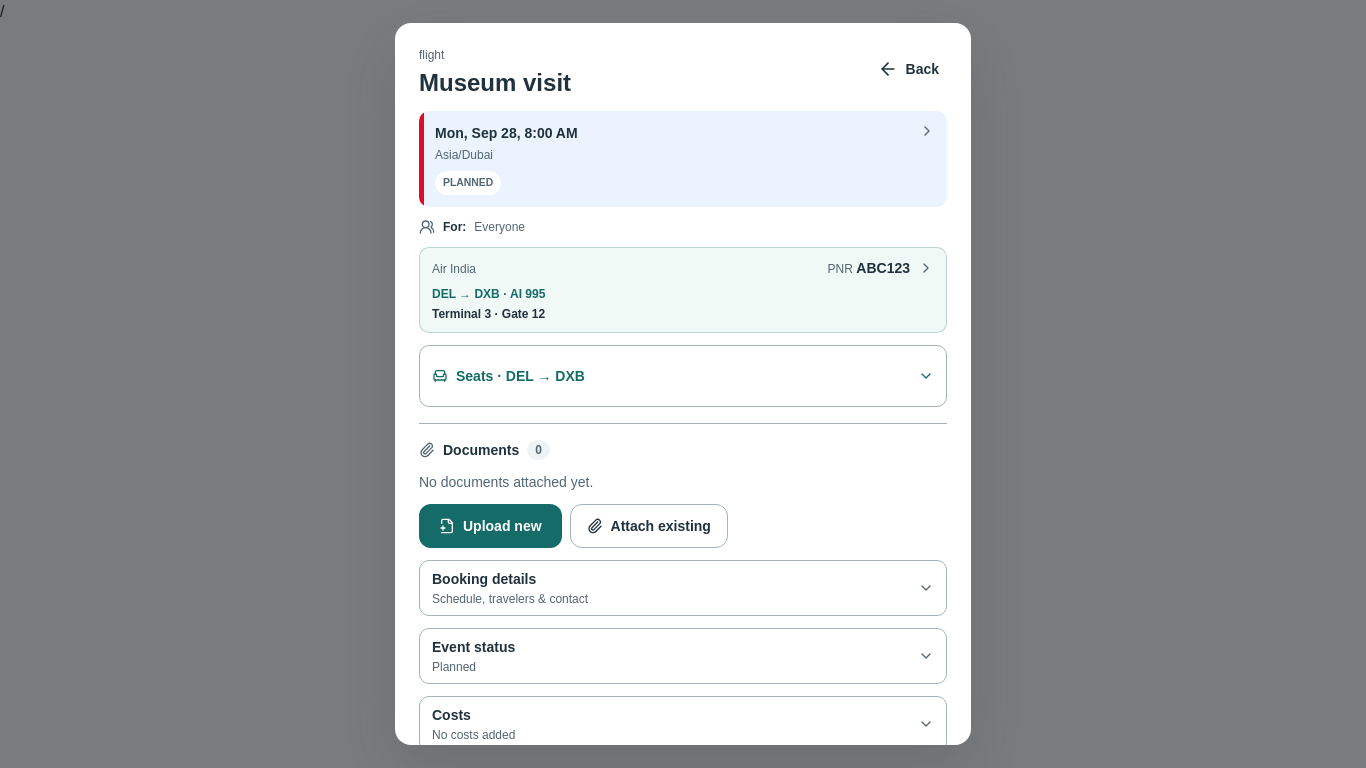
Test: flight event details › shows reference and gate immediately, with focused traveler details inside the booking accordion
Expected: the text "Terminal 3 · Gate 12" is shown, [432, 307, 545, 321]
Click the button "Booking details Schedule, travelers & contact": point(484, 579) [420, 561, 946, 615]
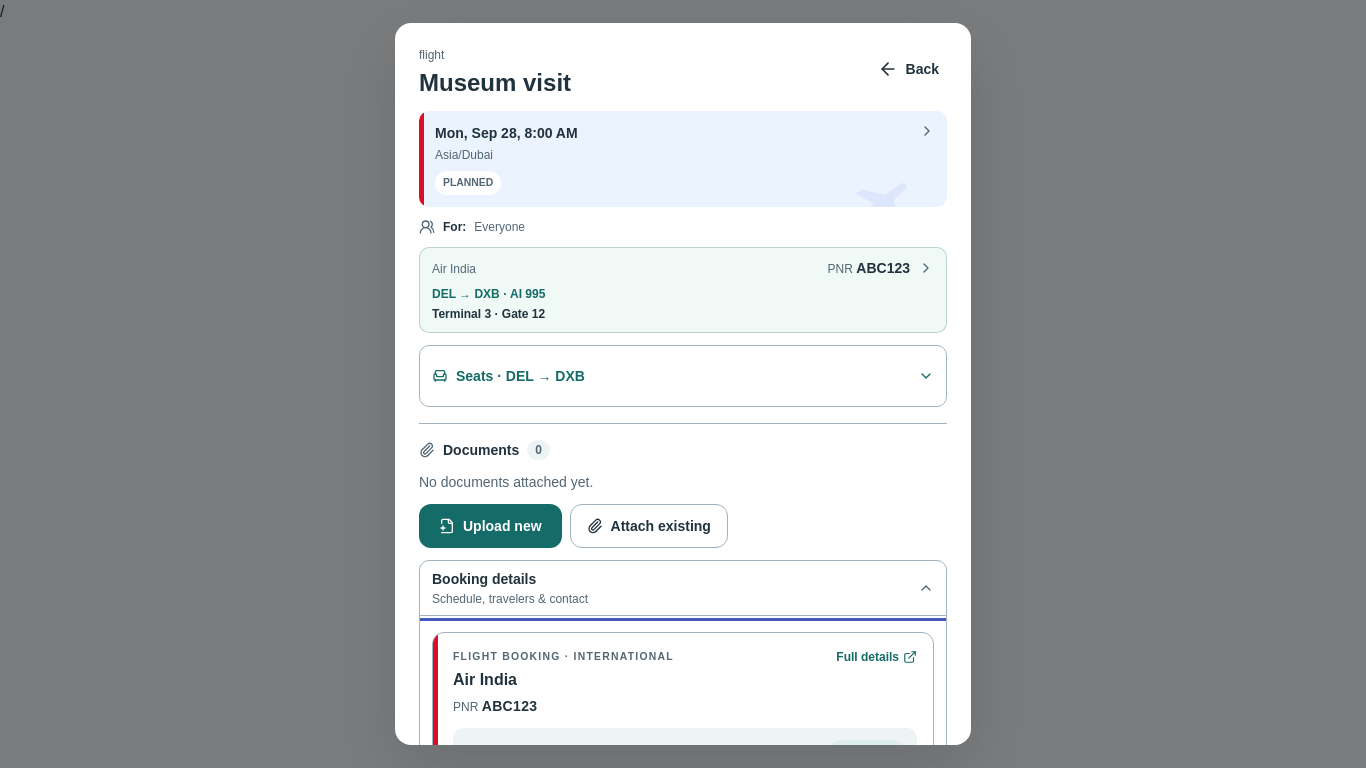
Click the link named "View booking details for Flight to Dubai": point(683, 159) [419, 111, 947, 207]
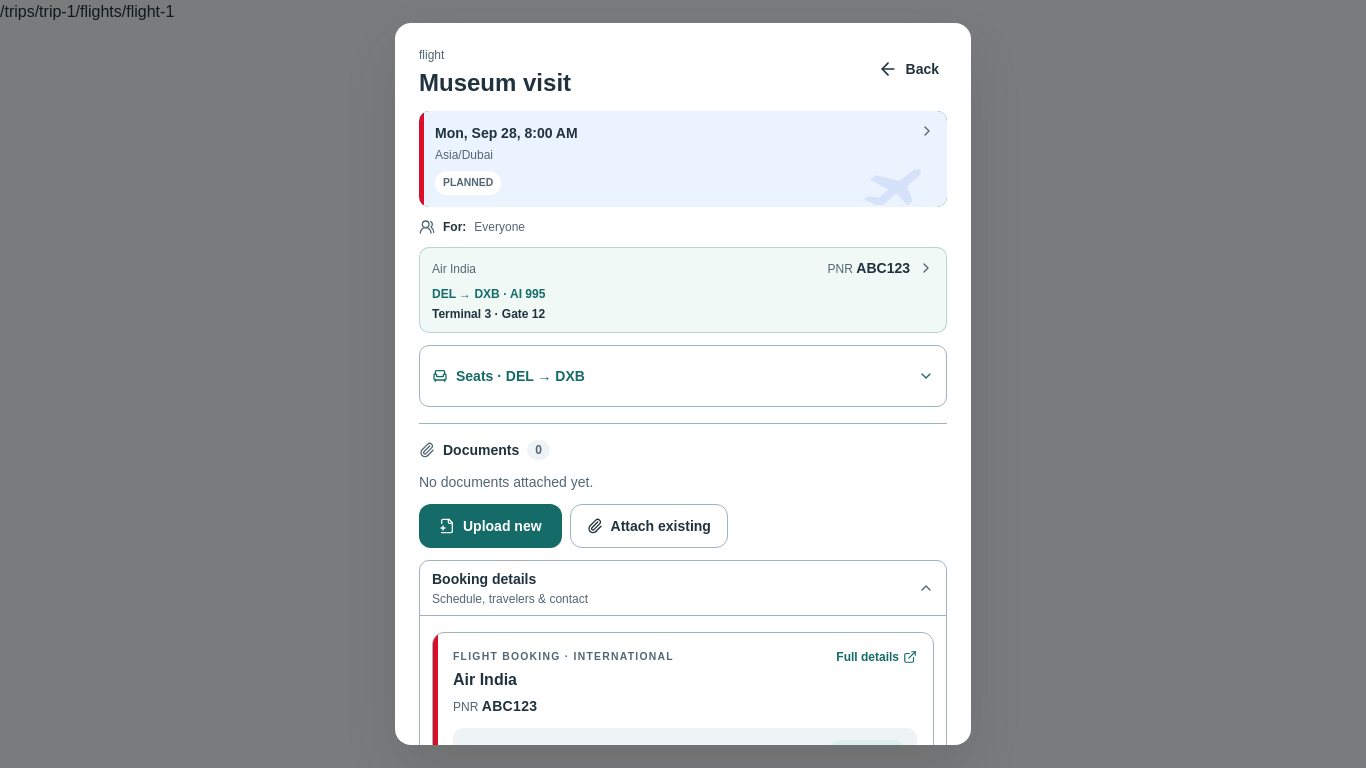
Expected: the text with test id "location" reads "/trips/trip-1/flights/flight-1", [0, 3, 174, 20]
